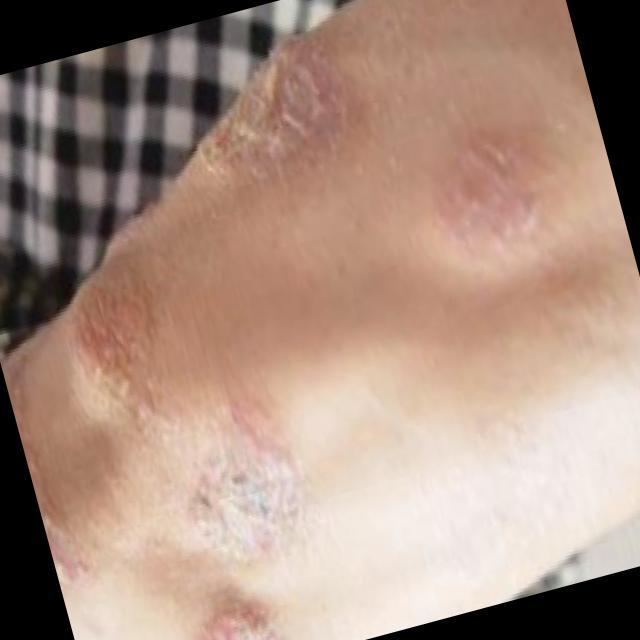Eczema: (55, 279, 302, 639), (188, 36, 367, 192), (443, 137, 570, 270)
